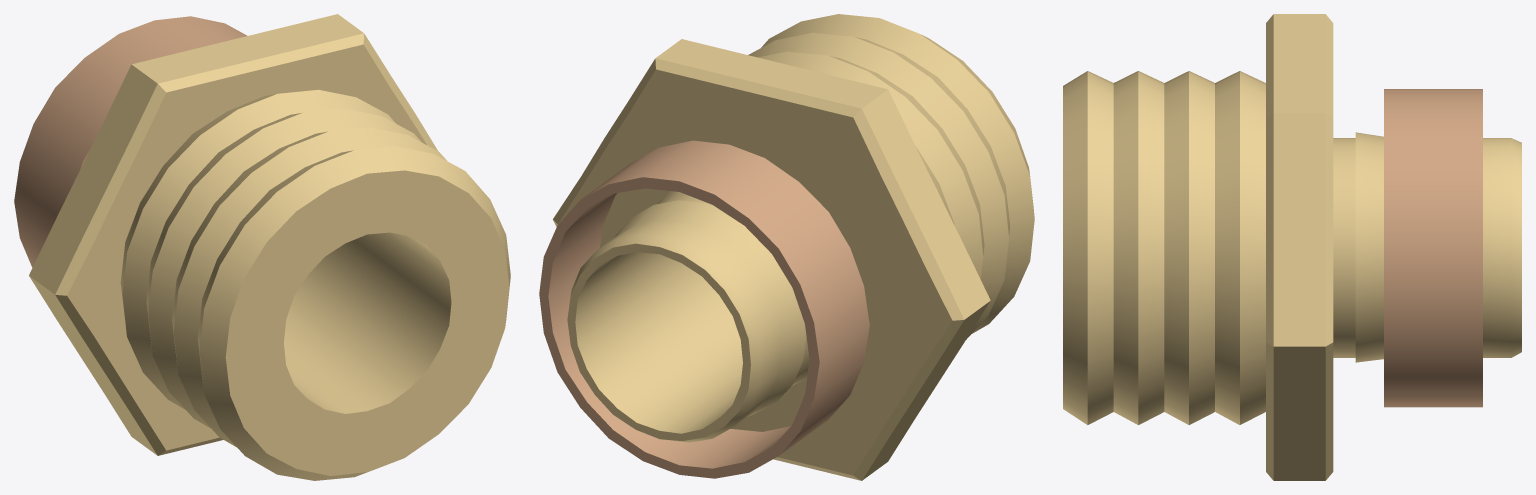
Rendered from slab_pipes_supply__water-city_filter_and_plumbing-pex+attic_repipe+pex_branch.glb.
The picture shows the model from 3 angles, left to right: view 1: azimuth 30°, elevation 25°; view 2: azimuth 150°, elevation 25°; view 3: azimuth 270°, elevation 25°; orthographic projection.
Visible parts, largest first — view 1: fit_adapter_pipe_supply_house_entry__pex; view 2: fit_adapter_pipe_supply_house_entry__pex; view 3: fit_adapter_pipe_supply_house_entry__pex.
Boxes of the visible parts, x1=… form: fit_adapter_pipe_supply_house_entry__pex: x1=14, y1=14, x2=510, y2=480; fit_adapter_pipe_supply_house_entry__pex: x1=539, y1=14, x2=1034, y2=480; fit_adapter_pipe_supply_house_entry__pex: x1=1063, y1=14, x2=1521, y2=480.
Size of the model in its own units: 0.0441 by 0.0381 by 0.0431.
